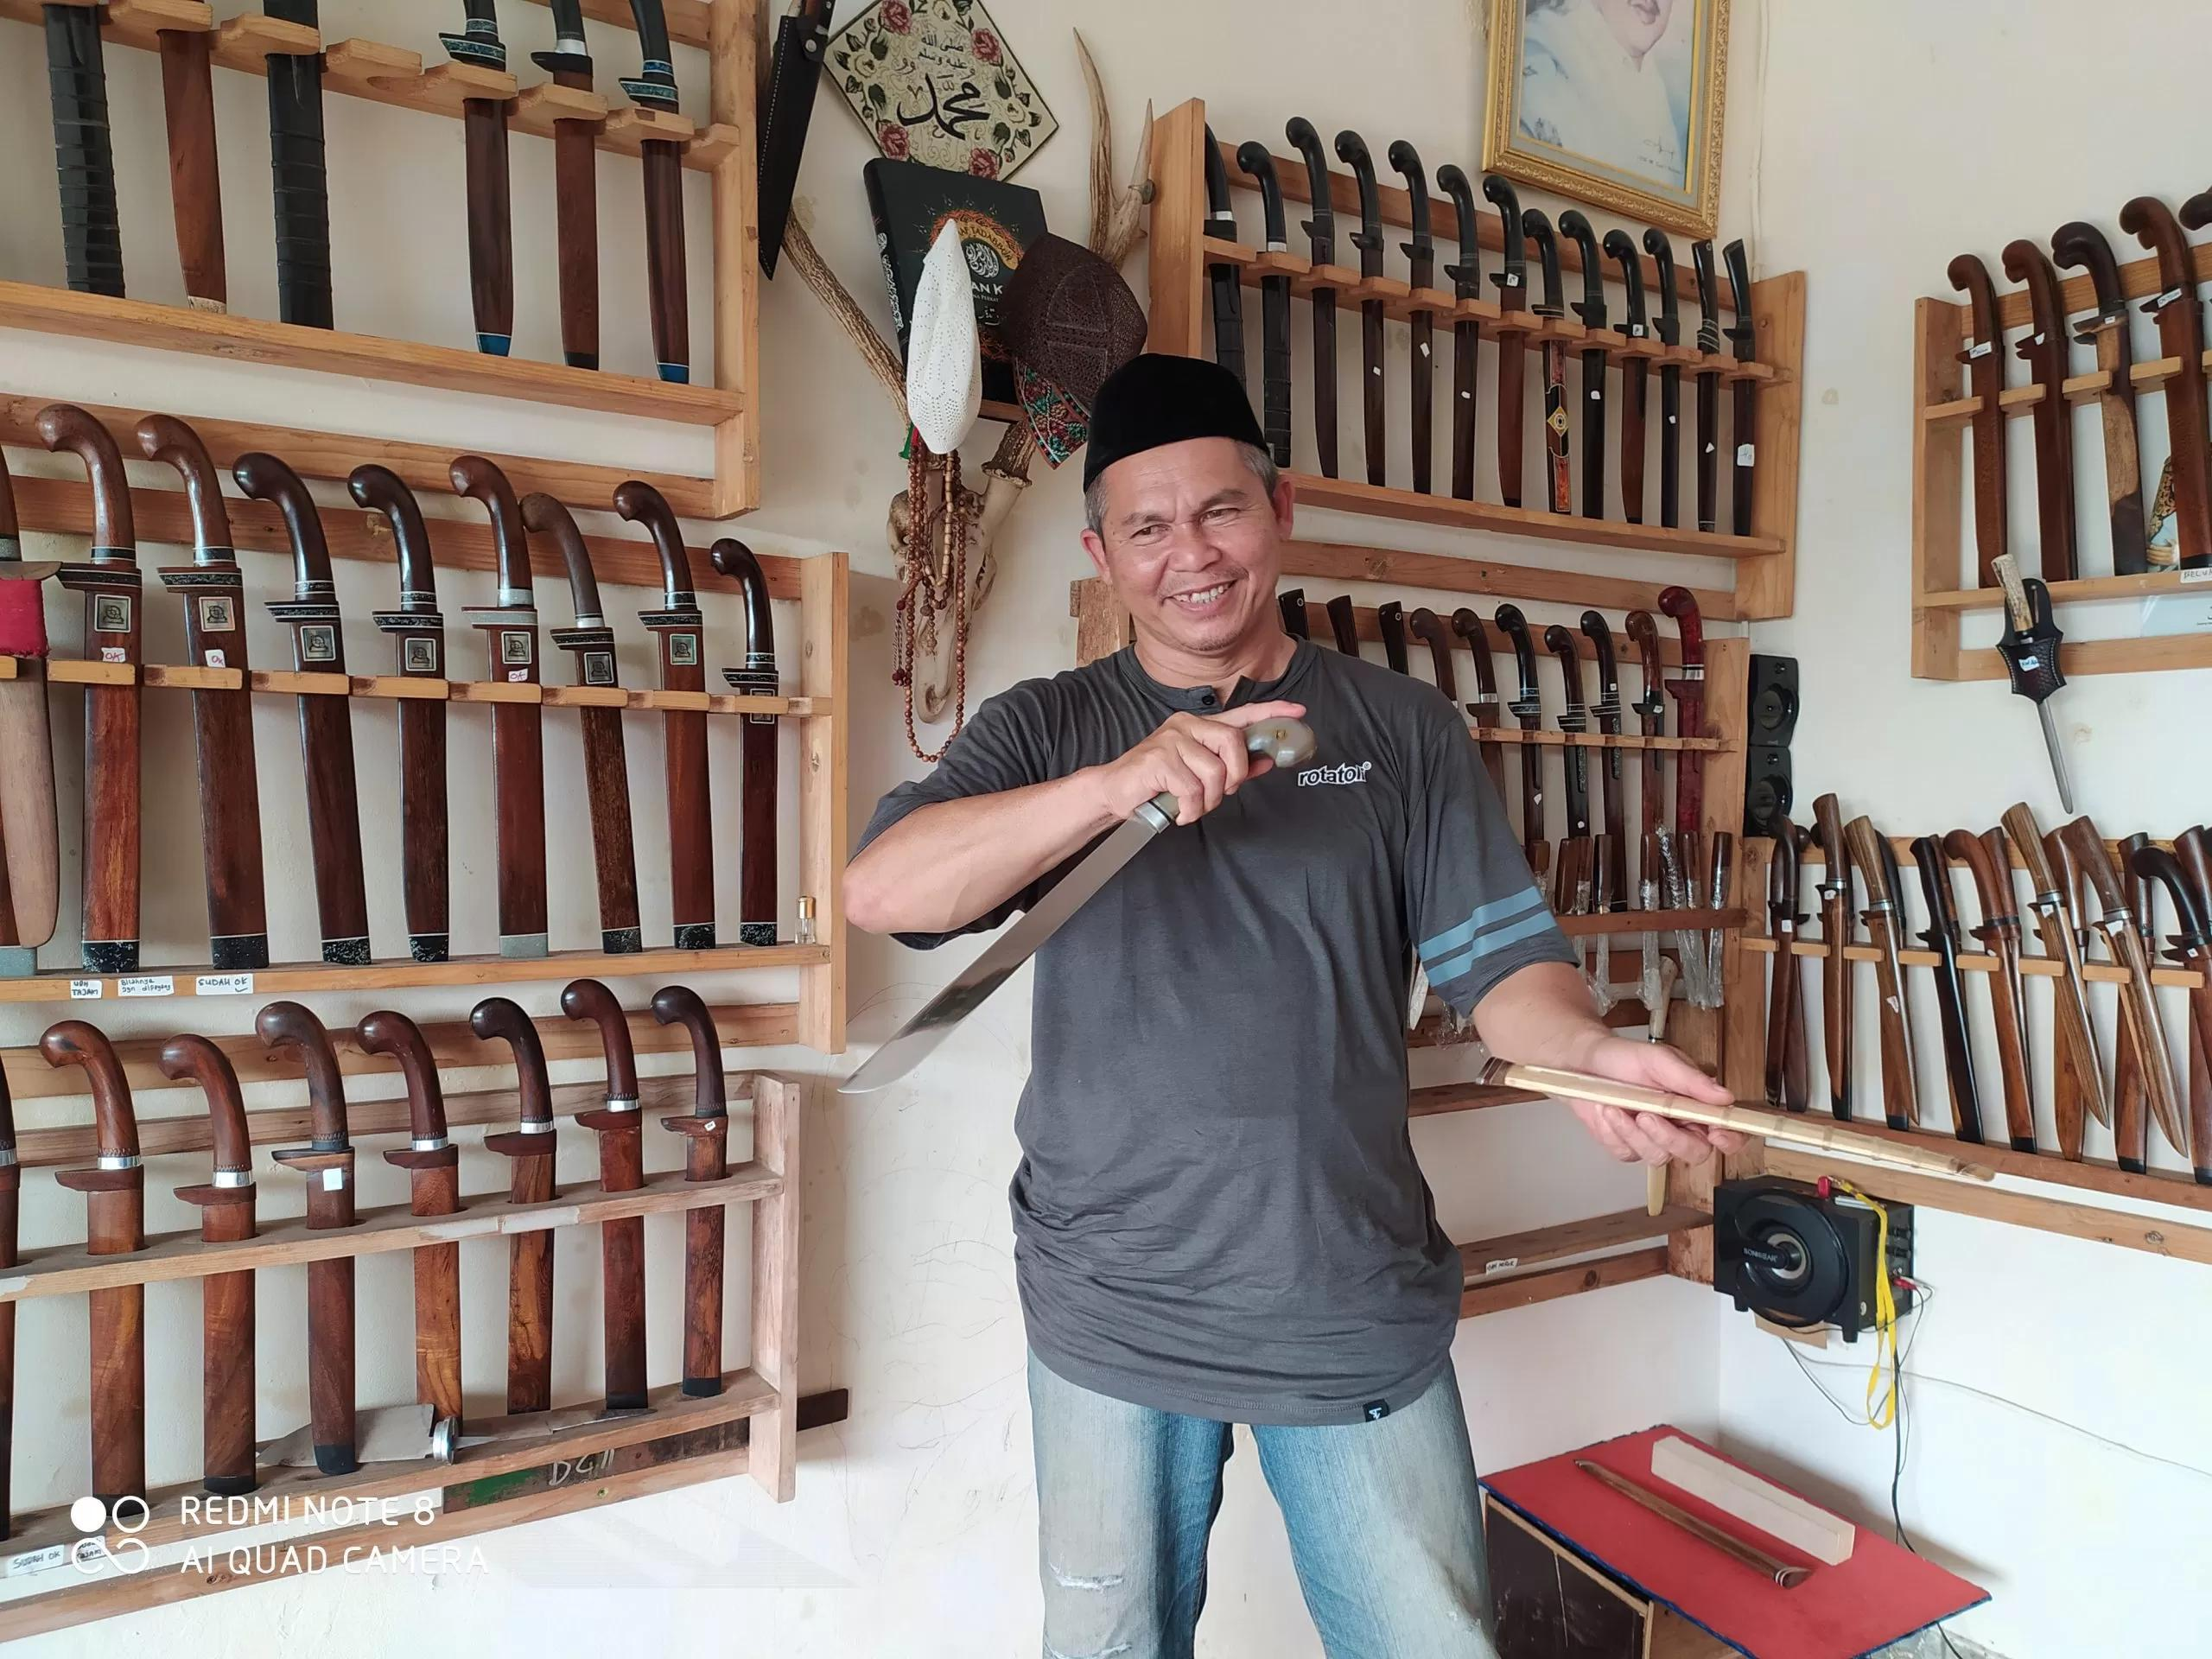facao: (848, 704, 1310, 1096), (246, 448, 401, 976), (145, 406, 289, 955), (54, 392, 167, 974), (42, 1023, 162, 1518), (263, 1000, 376, 1493), (531, 477, 643, 972), (624, 472, 730, 953), (453, 448, 554, 953), (172, 1030, 275, 1497), (467, 981, 571, 1439), (371, 455, 463, 948), (2062, 819, 2193, 1161), (564, 969, 658, 1431), (380, 985, 475, 1438), (650, 981, 745, 1431), (2000, 803, 2111, 1138), (615, 0, 702, 404), (707, 538, 787, 976), (1939, 826, 2043, 1147), (0, 434, 59, 967), (1893, 828, 1993, 1143), (540, 0, 613, 392), (1282, 91, 1352, 484), (1226, 124, 1305, 464), (442, 0, 517, 352), (1338, 110, 1402, 491), (1602, 223, 1669, 532), (1521, 202, 1587, 511), (1561, 209, 1623, 516), (1857, 812, 1919, 1114), (1642, 221, 1702, 533), (1484, 171, 1536, 511), (1444, 160, 1496, 497), (1198, 101, 1249, 437), (1395, 127, 1439, 502), (1656, 586, 1719, 845), (1719, 234, 1763, 554), (1581, 596, 1641, 828), (1494, 598, 1550, 829), (1547, 617, 1601, 829), (1696, 237, 1733, 535), (1810, 791, 1846, 1080), (1627, 605, 1669, 816), (1759, 812, 1789, 1103), (1453, 591, 1507, 739), (1674, 833, 1716, 1002), (1585, 838, 1622, 1012), (1632, 835, 1667, 1007), (1705, 835, 1728, 1011), (1552, 836, 1573, 938)
